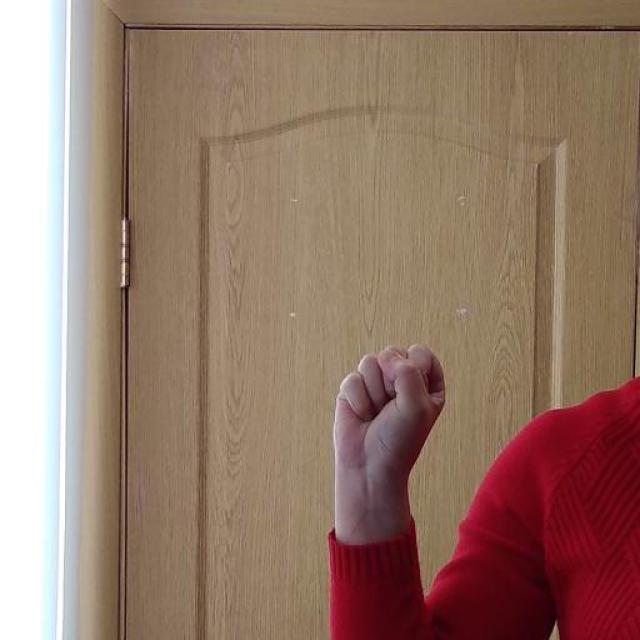hand: (332, 342, 446, 472)
